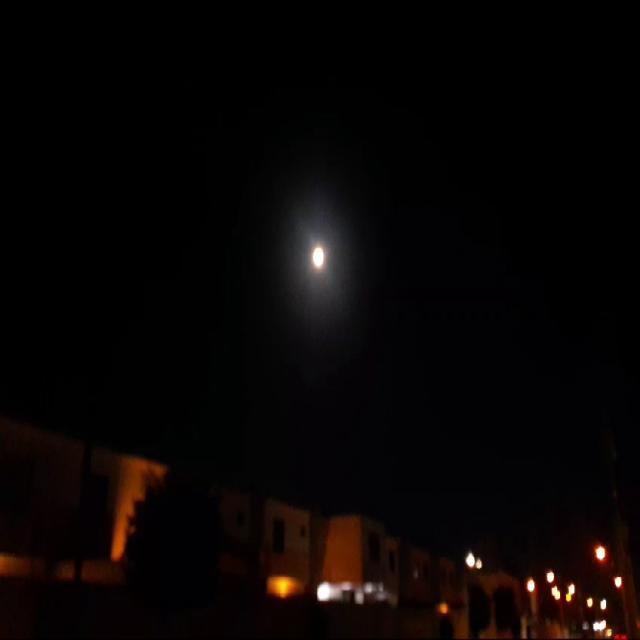moon: (310, 240, 328, 274)
